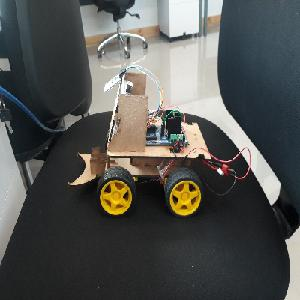Robot: (68, 65, 212, 219)
